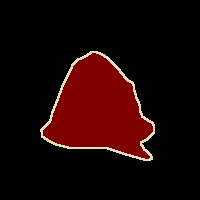hat: (41, 51, 154, 160)
